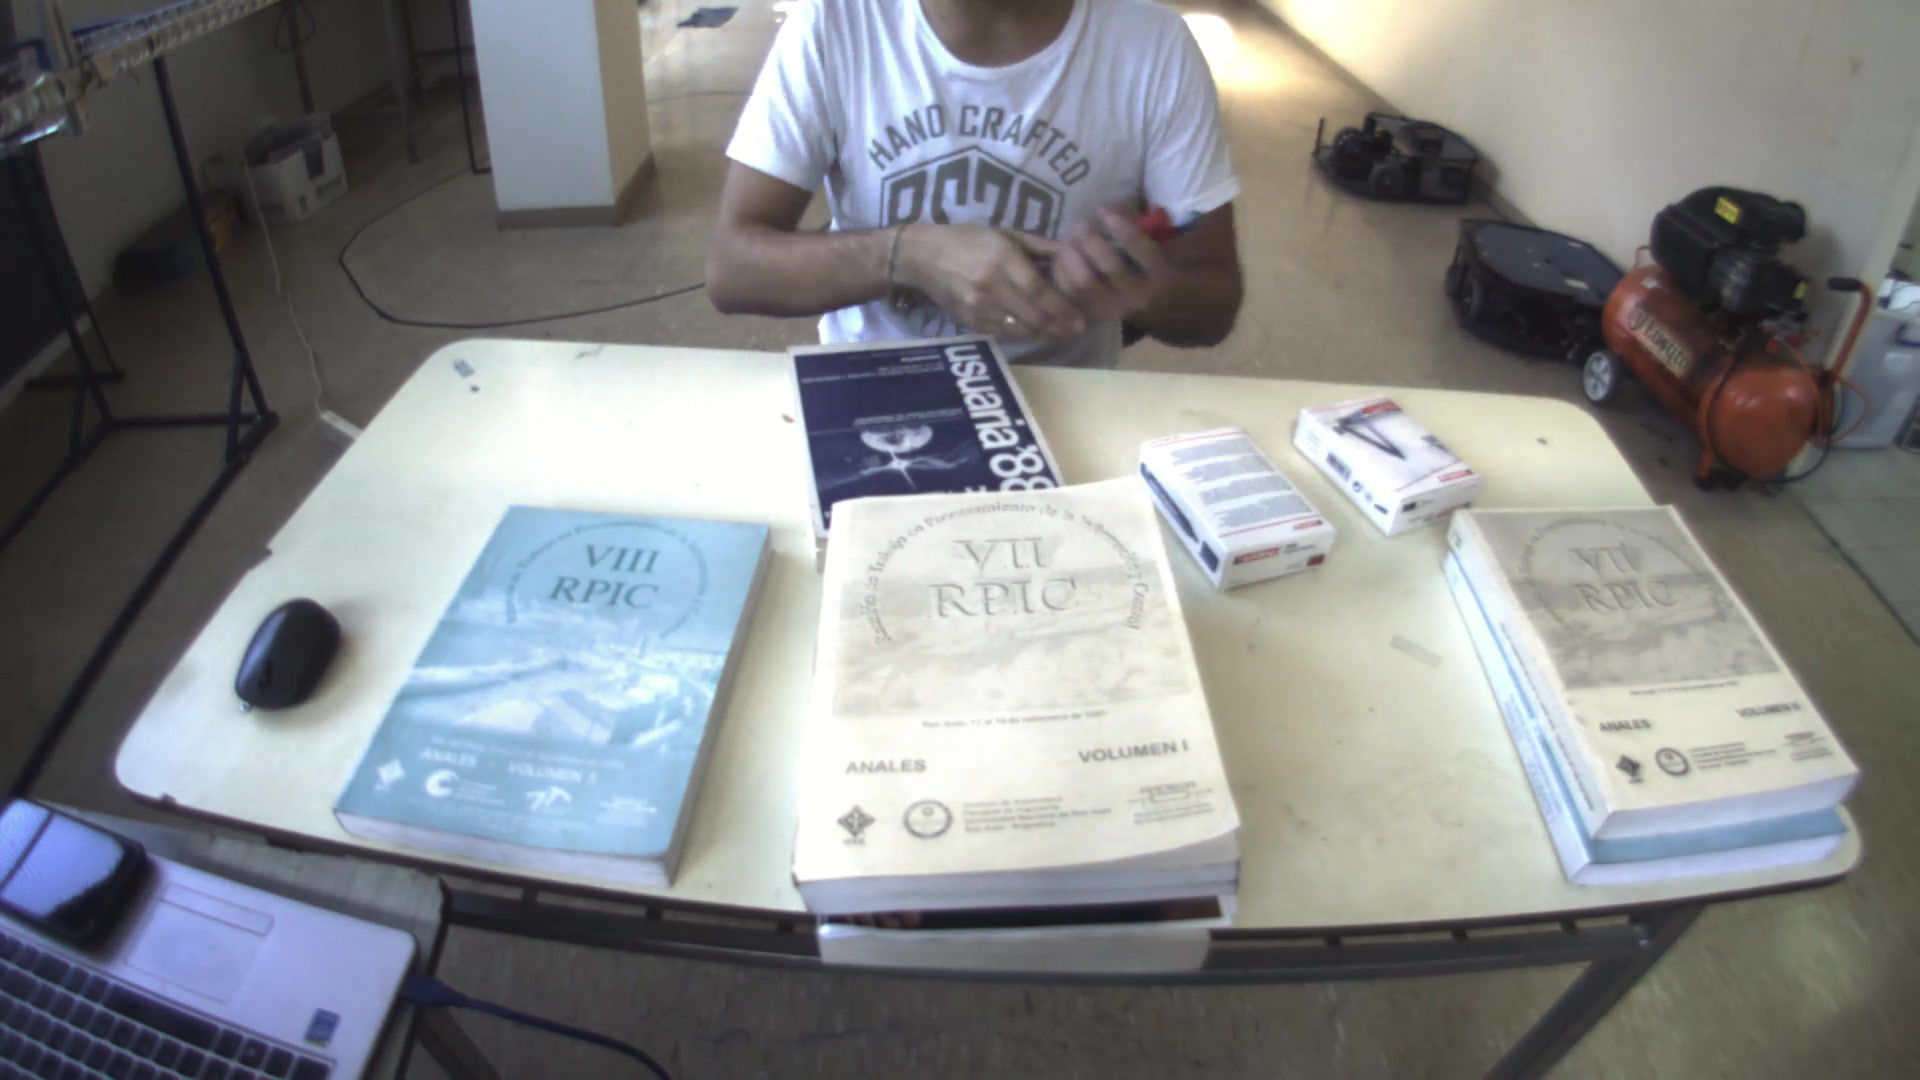hand: (906, 218, 1088, 361), (1059, 190, 1180, 335)
